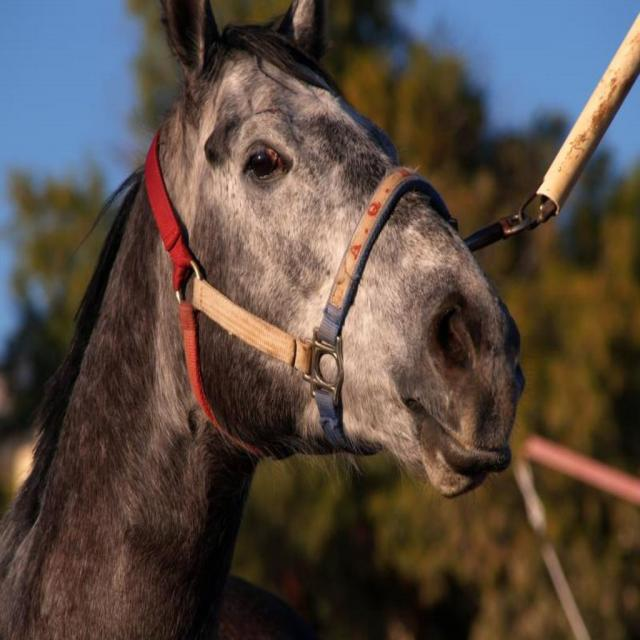Horse: (0, 0, 525, 639)
